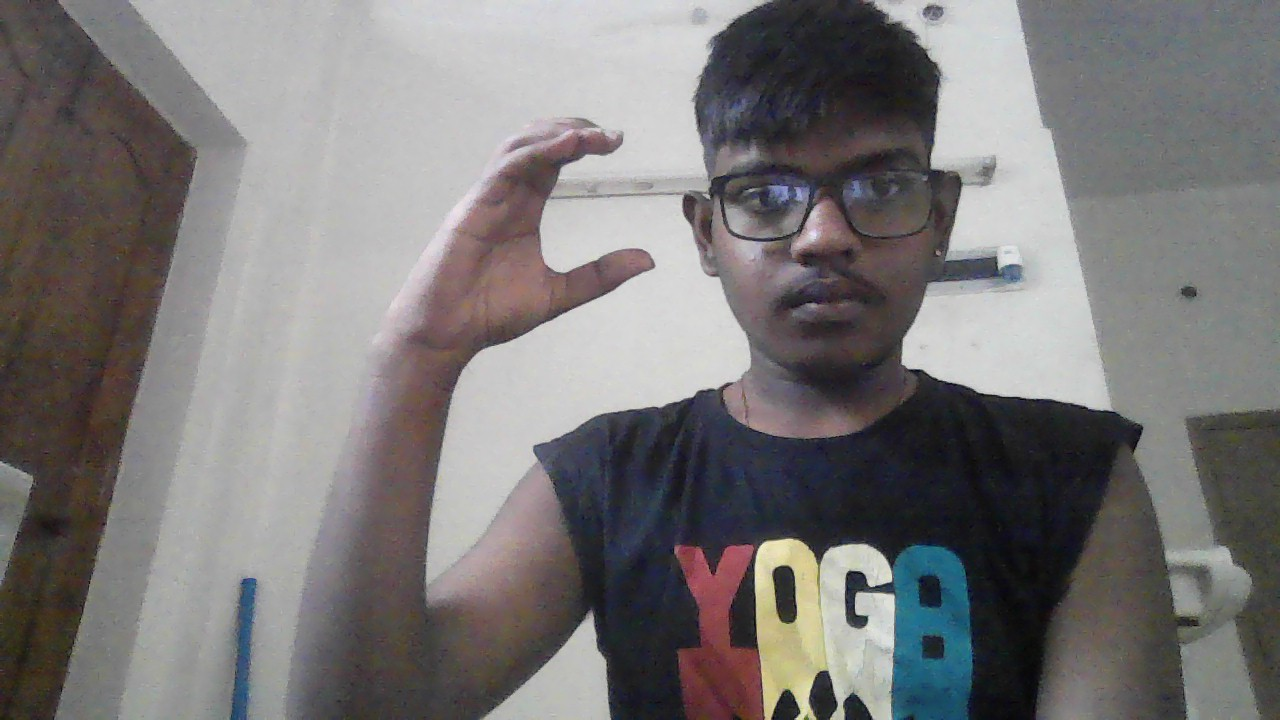C: (435, 120, 655, 341)
